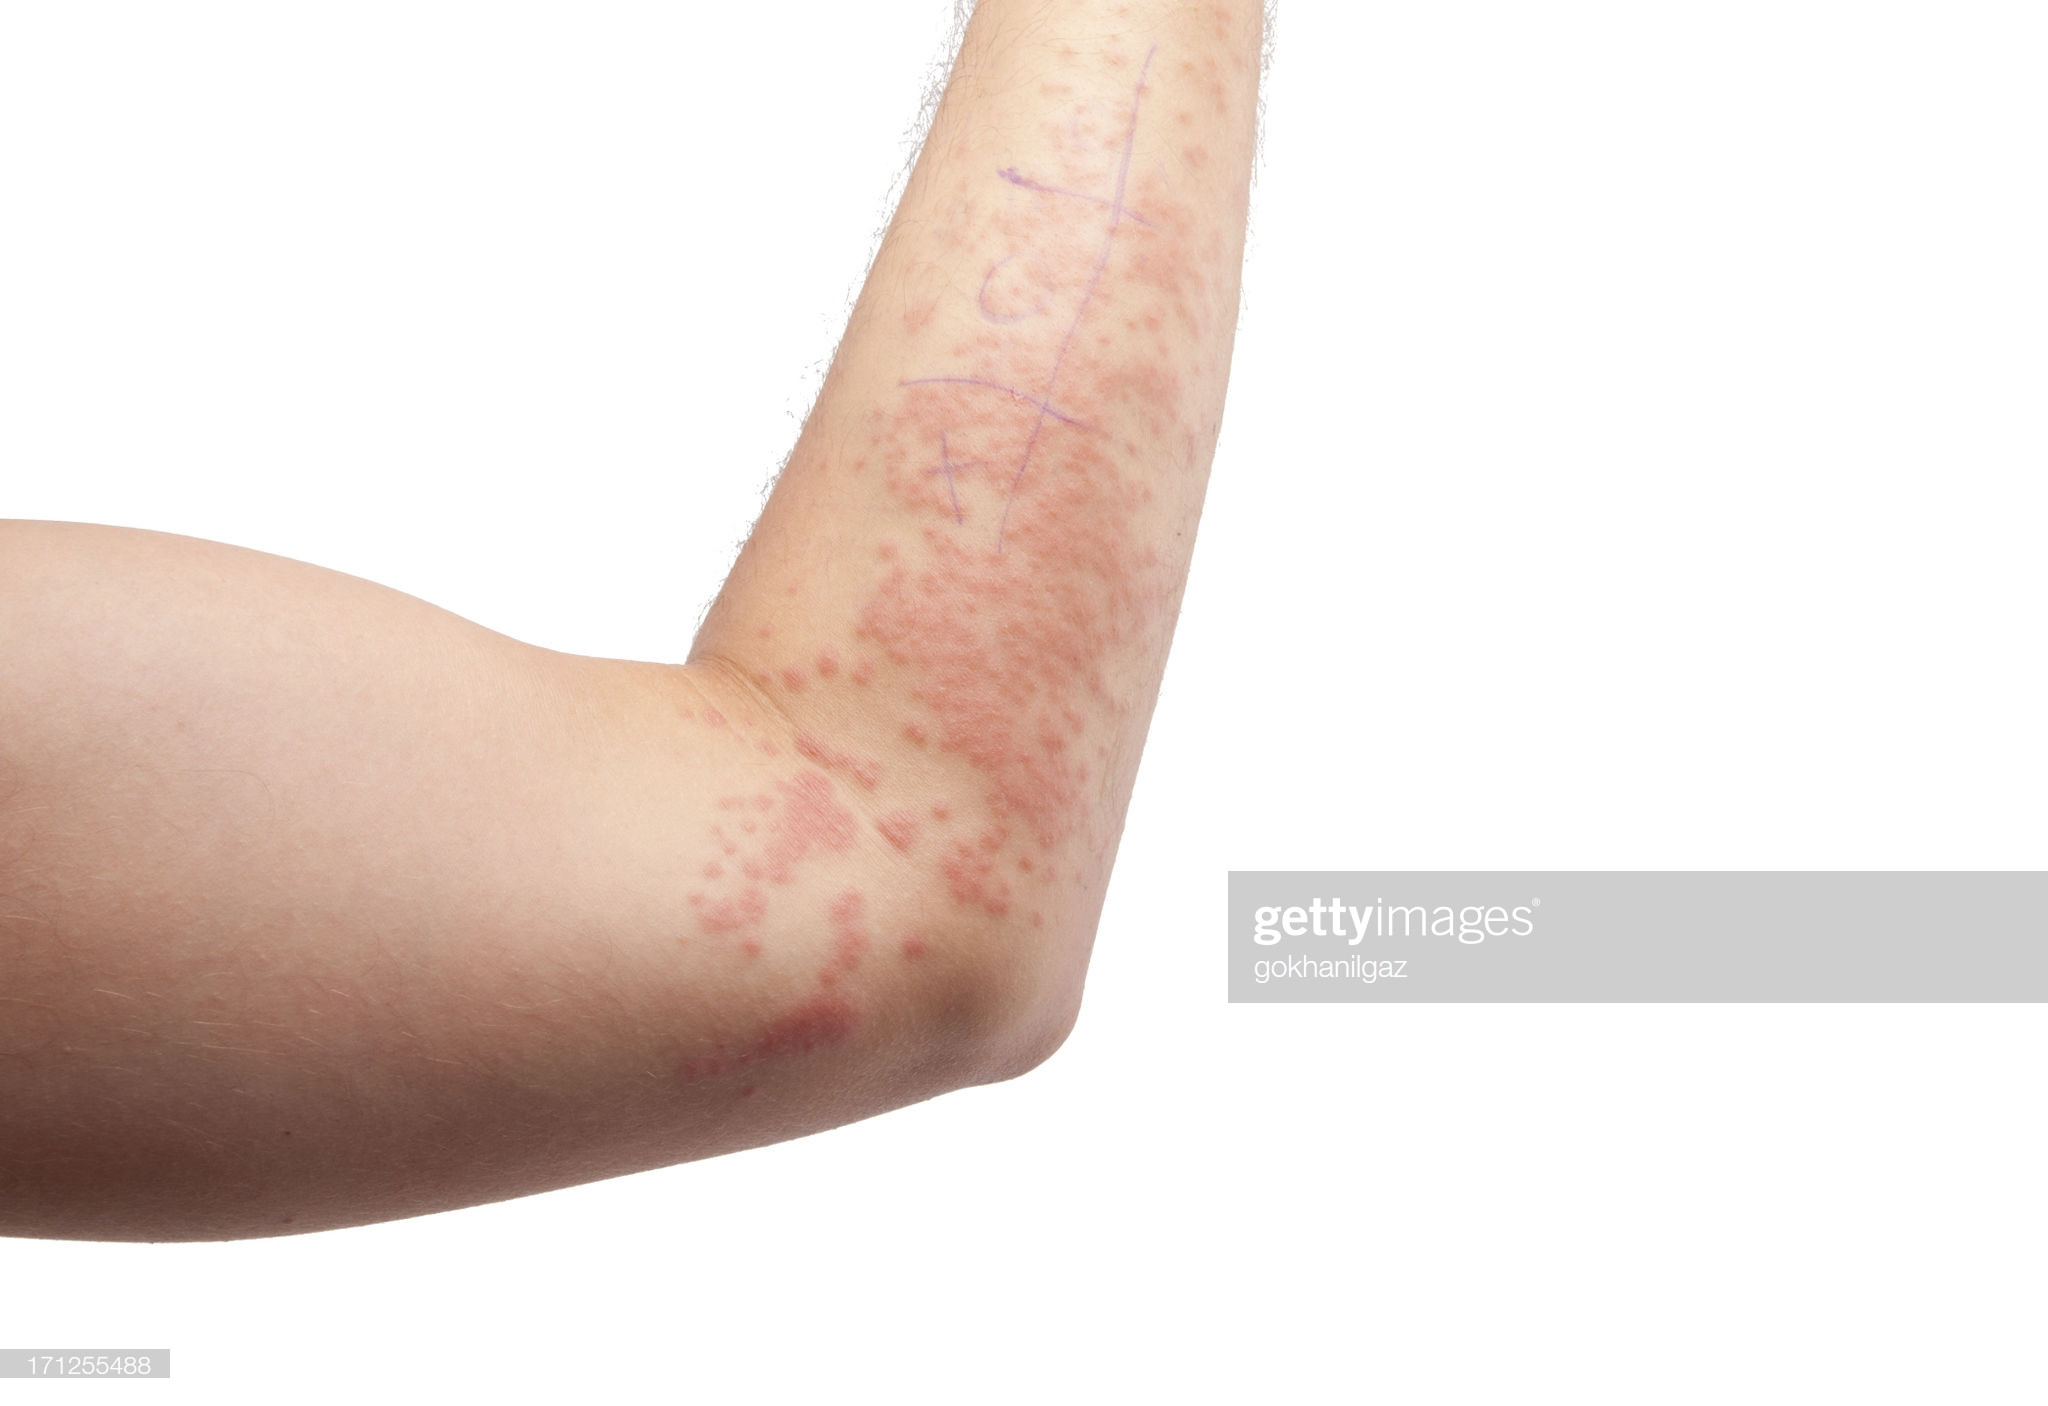Eczema: (926, 92, 1163, 909)
